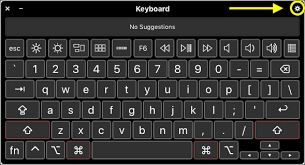keyboard: (3, 34, 300, 160)
